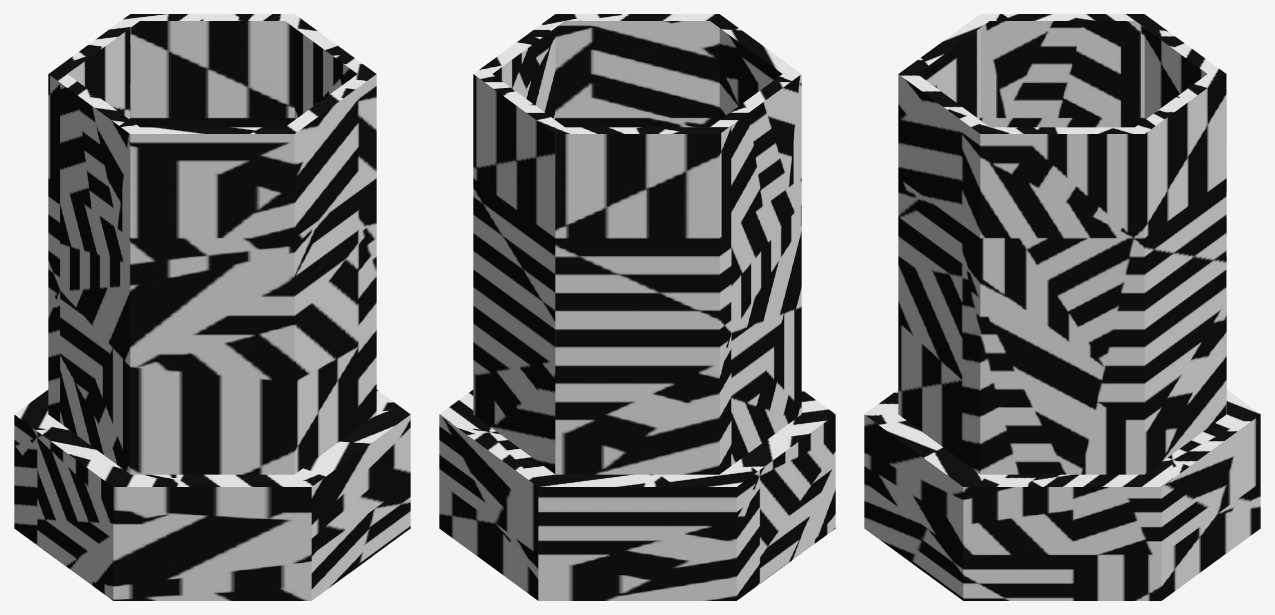
The model's file is 2eqweq.glb.
The picture shows the model from 3 angles, left to right: view 1: azimuth 30°, elevation 25°; view 2: azimuth 150°, elevation 25°; view 3: azimuth 270°, elevation 25°; orthographic projection.
Visible parts, largest first — view 1: 2eqweq; view 2: 2eqweq; view 3: 2eqweq.
Boxes of the visible parts, bbox=[...] form: 2eqweq: bbox=[14, 14, 410, 600]; 2eqweq: bbox=[439, 14, 835, 600]; 2eqweq: bbox=[864, 14, 1260, 600].
Size of the model in its own units: 24.84 by 36.26 by 28.68.
1 material, 1 textured.
